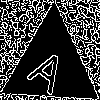A: (26, 40, 75, 97)
